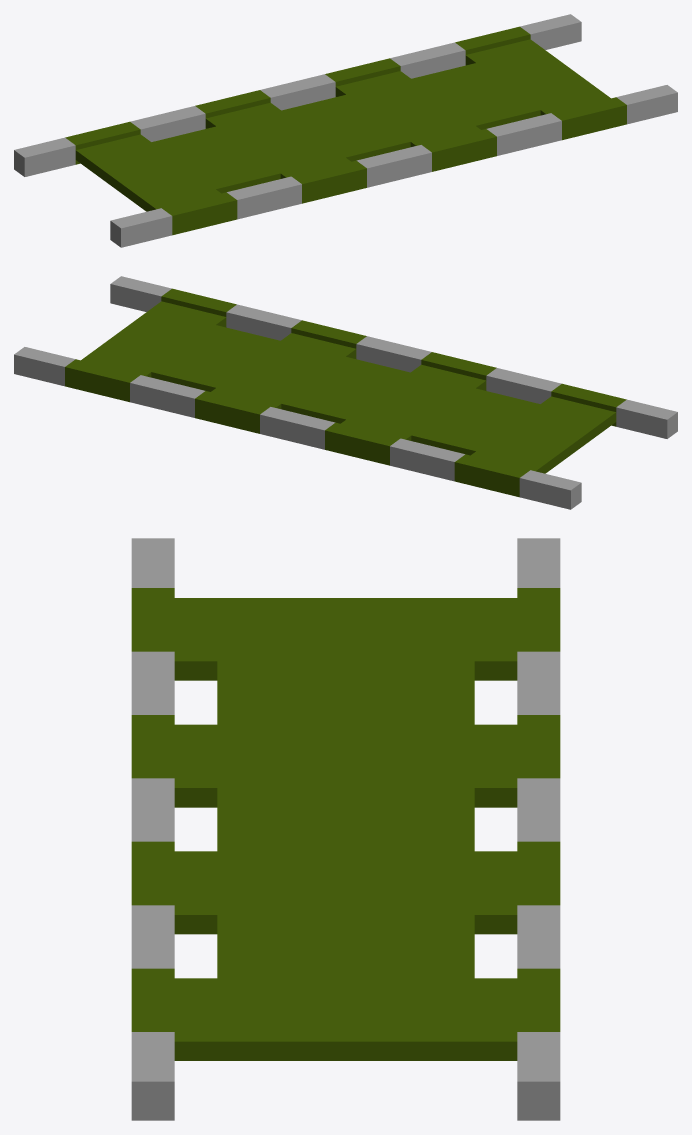
File: stretcher.fbx
The picture shows the model from 3 angles, top to bottom: view 1: azimuth 30°, elevation 25°; view 2: azimuth 150°, elevation 25°; view 3: azimuth 270°, elevation 25°; orthographic projection. The views are drawn at different scales.
Parts seen in each view (by area): view 1: stretcher_base; view 2: stretcher_base; view 3: stretcher_base.
Boxes of the visible parts, left/top/right/bottom form: stretcher_base: left=14, top=14, right=677, bottom=247; stretcher_base: left=14, top=276, right=677, bottom=509; stretcher_base: left=131, top=538, right=560, bottom=1120.
Size of the model in its own units: 240 by 8 by 80.
